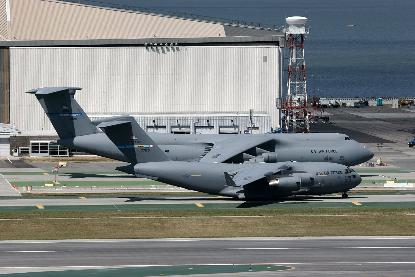C17: (24, 86, 373, 167)
C2: (86, 114, 361, 199)
